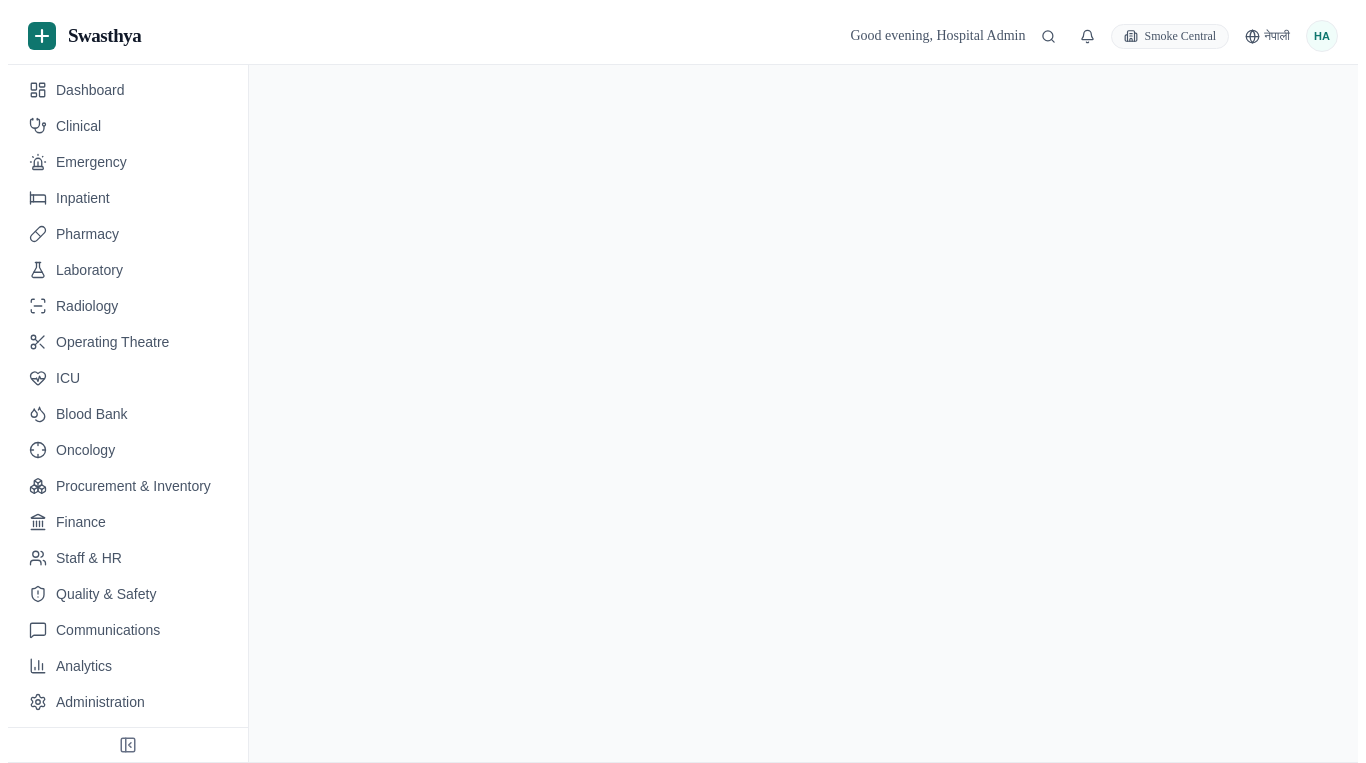
User account menu › shows a confirmation dialog before logging out
The width and height of the screenshot is (1366, 763).
Click the button with test id "user-menu-trigger".
click(1322, 36)  # box [1306,20,1338,52]
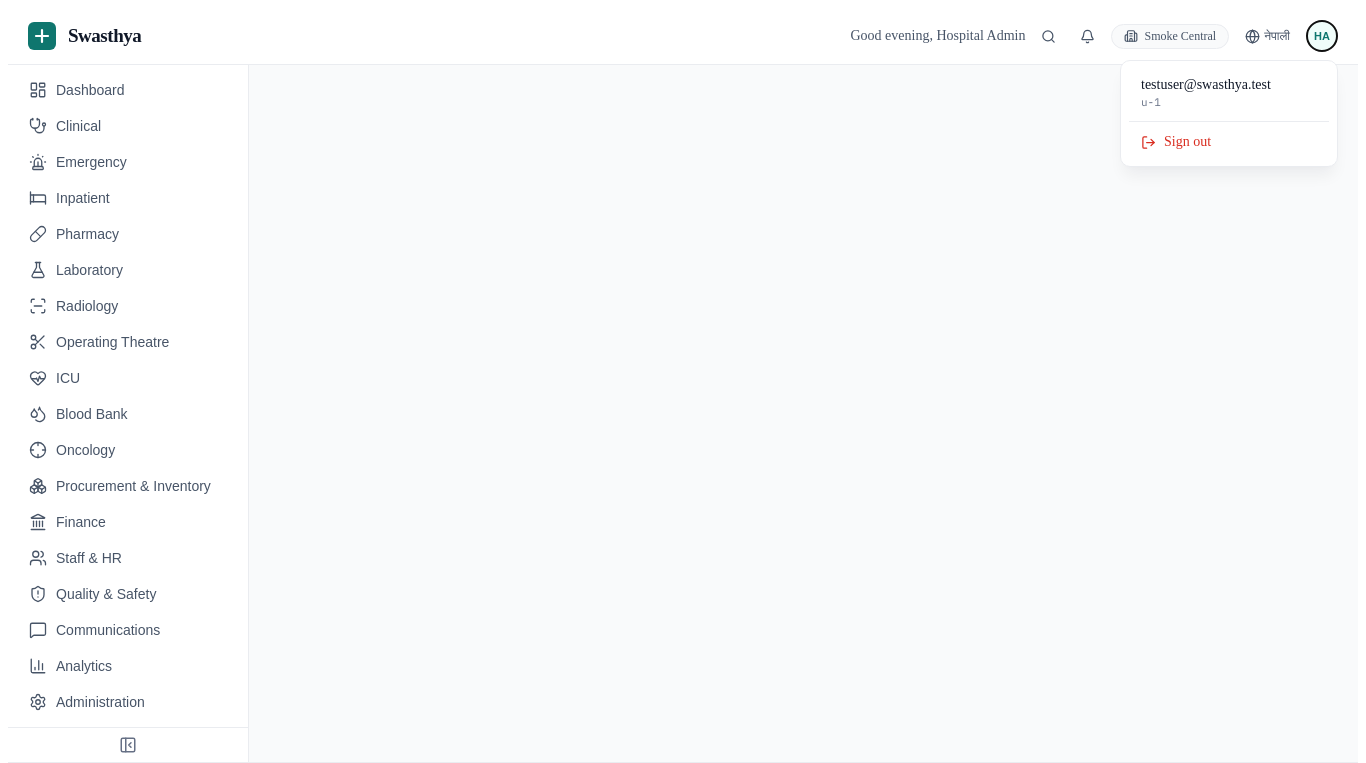
Click the menu item with test id "user-menu-logout".
click(1229, 142)  # box [1129,126,1329,158]
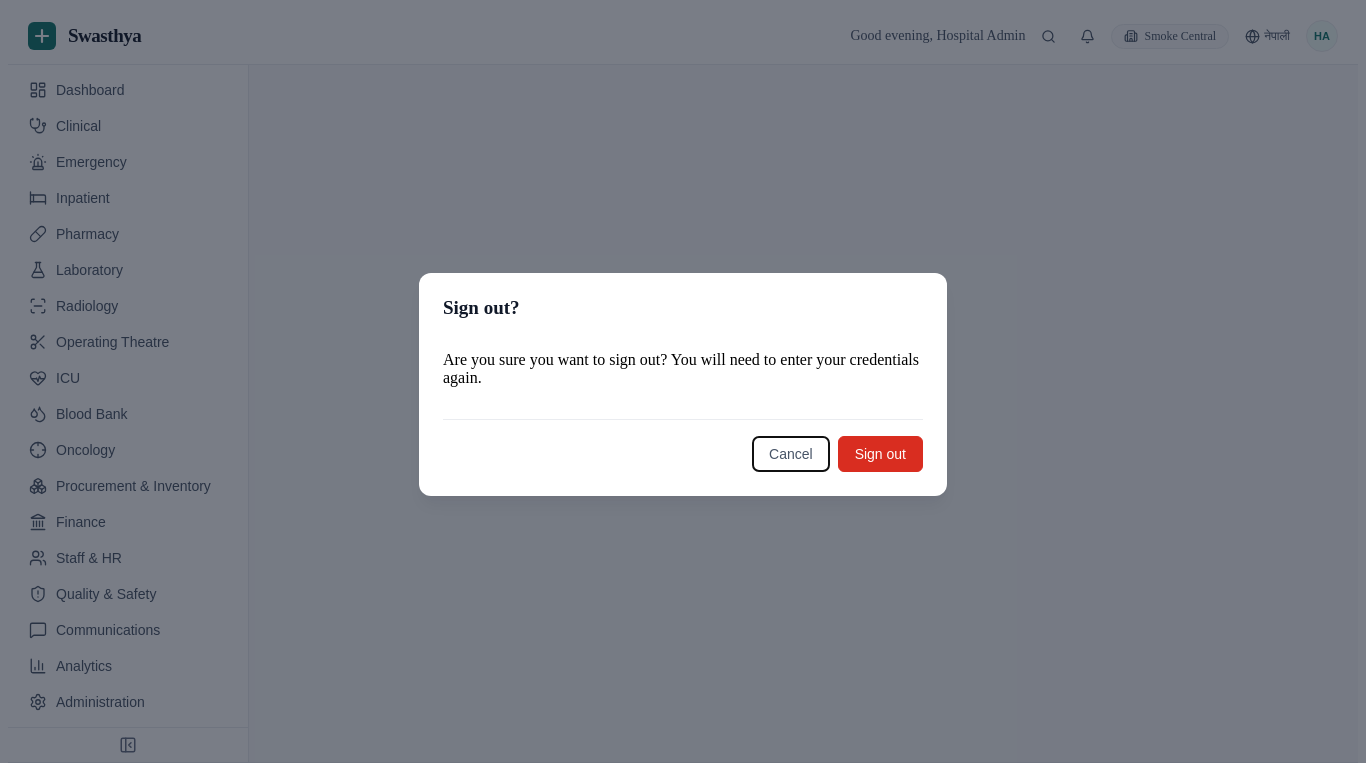
Check: the dialog is shown, box [419,272,947,496]
Check: the text "Are you sure" is shown, box [443,350,919,386]
